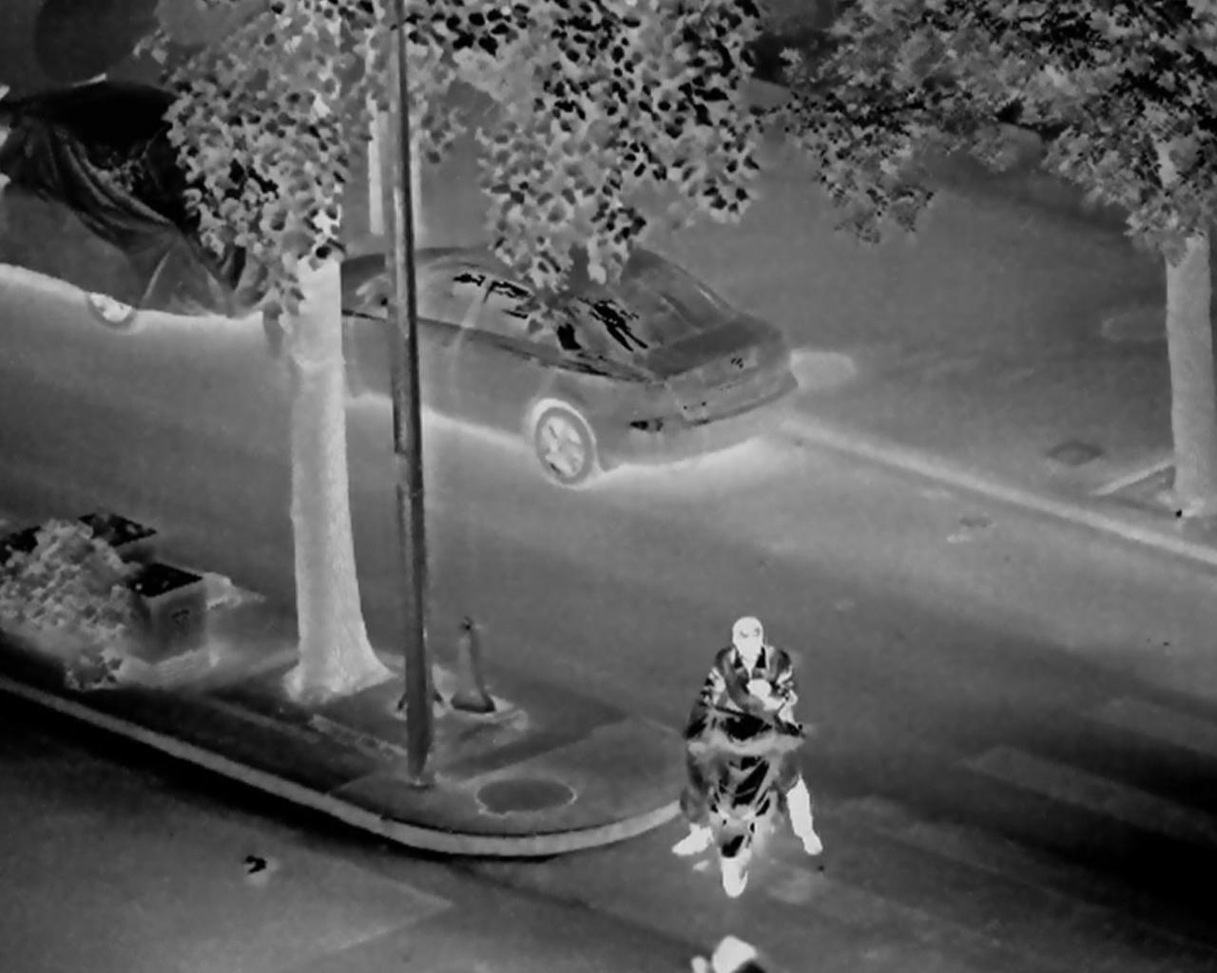person: (686, 596, 813, 895)
